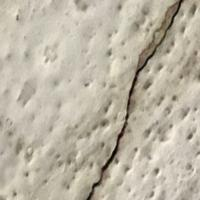crack: (73, 0, 197, 199)
